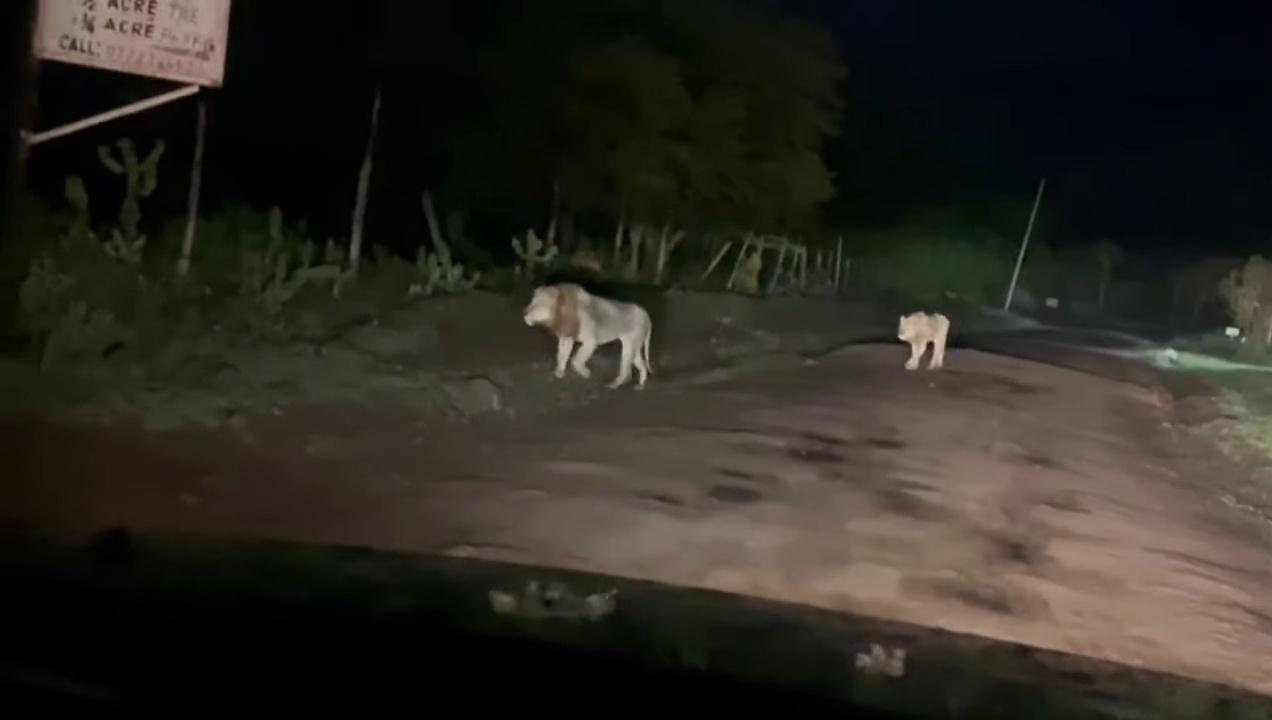lions: (516, 265, 680, 409), (888, 299, 968, 392)
